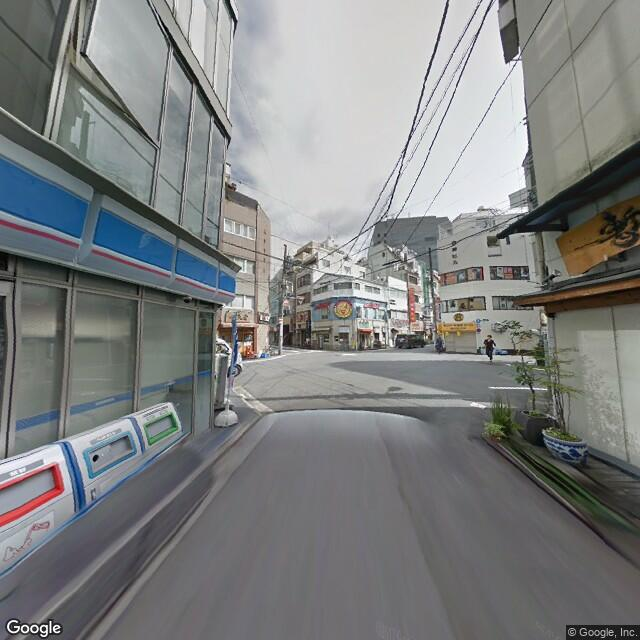lawson: (1, 123, 236, 306)
